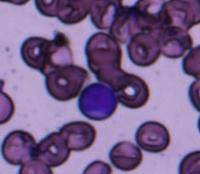L: (77, 82, 118, 120)
